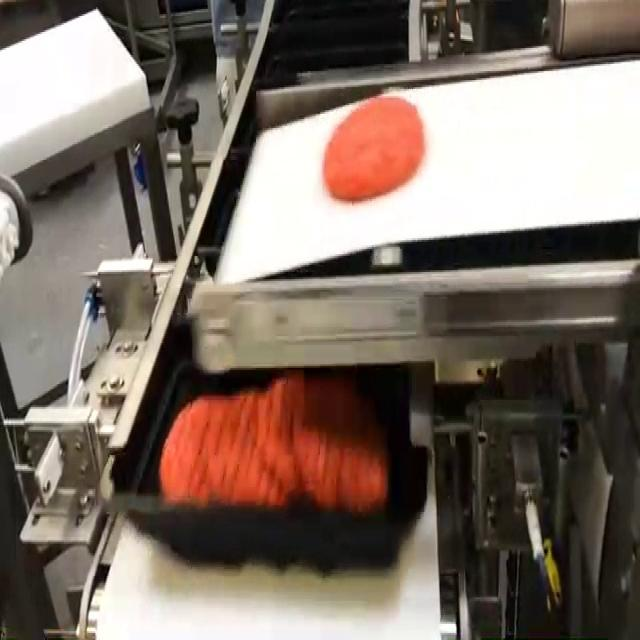4-hamburguer: (160, 373, 389, 512)
